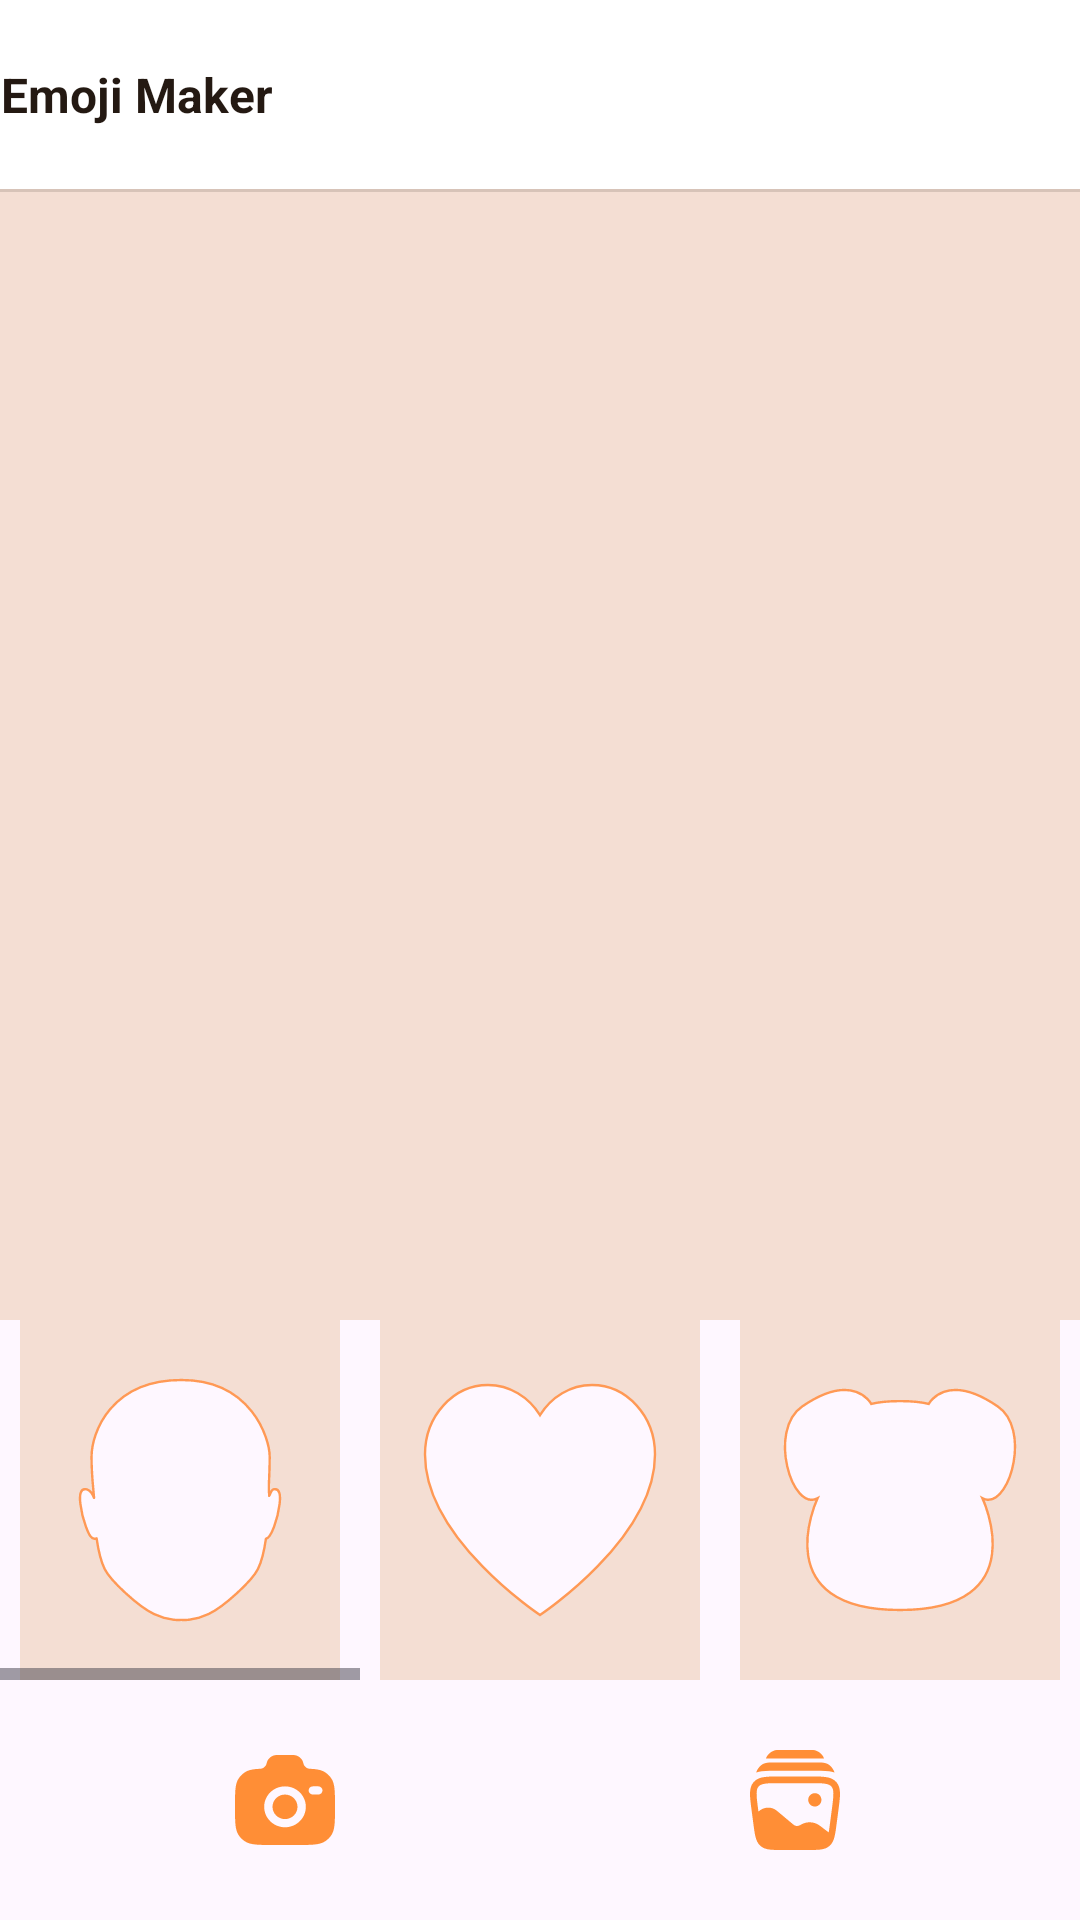

Where to tap for icons on this 1080px x 1920px app screen, as [x,y]:
album: [795,1800]
camera: [285,1800]
face frame: [180,1500], [540,1500], [900,1500]
